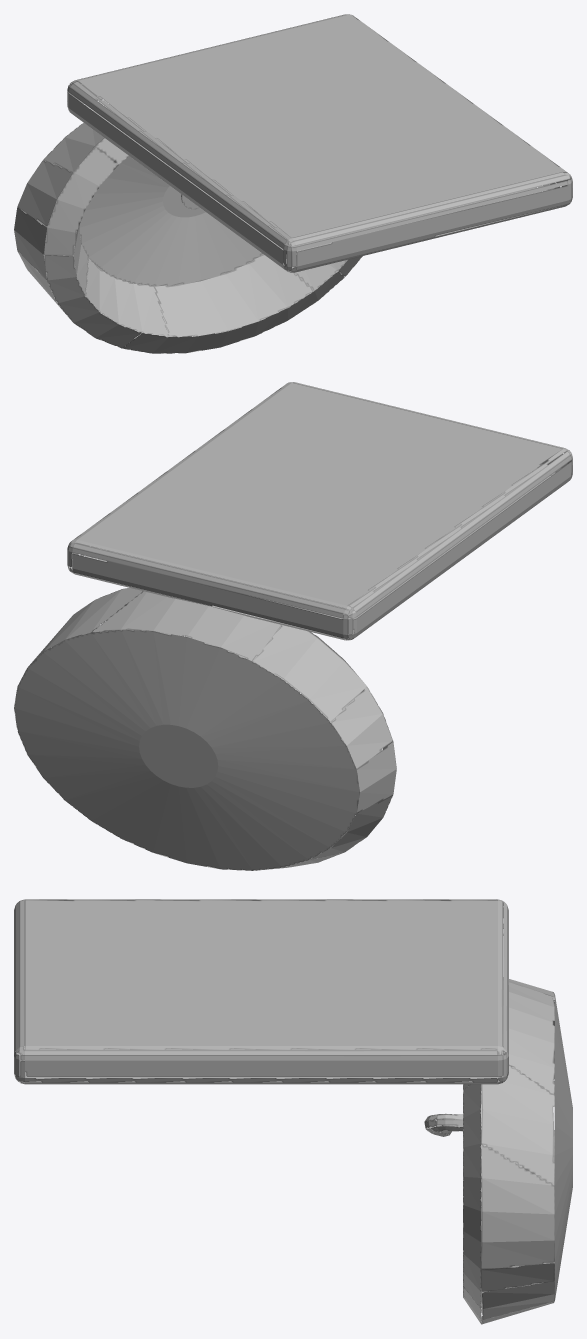
The model's file is pz_sink_fancy_hanging.obj.
3 views of the same model, one above another, from view 1: azimuth 30°, elevation 25°; view 2: azimuth 150°, elevation 25°; view 3: azimuth 270°, elevation 25° (orthographic). The views are drawn at different scales.
Parts seen in each view (by area): view 1: pz_sink_fancy_hanging_|_wall_backplate, pz_sink_fancy_hanging_|_rounded_open_drinking_fountain_bowl; view 2: pz_sink_fancy_hanging_|_rounded_open_drinking_fountain_bowl, pz_sink_fancy_hanging_|_wall_backplate; view 3: pz_sink_fancy_hanging_|_wall_backplate, pz_sink_fancy_hanging_|_rounded_open_drinking_fountain_bowl, pz_sink_fancy_hanging_|_curved_bubbler.
Part boxes in pixels (box(x1,y1,x2,y2)): pz_sink_fancy_hanging_|_wall_backplate: box(67, 14, 572, 272); pz_sink_fancy_hanging_|_rounded_open_drinking_fountain_bowl: box(14, 123, 362, 353); pz_sink_fancy_hanging_|_rounded_open_drinking_fountain_bowl: box(14, 588, 396, 870); pz_sink_fancy_hanging_|_wall_backplate: box(67, 382, 572, 640); pz_sink_fancy_hanging_|_wall_backplate: box(14, 899, 508, 1084); pz_sink_fancy_hanging_|_rounded_open_drinking_fountain_bowl: box(463, 977, 572, 1324); pz_sink_fancy_hanging_|_curved_bubbler: box(424, 1113, 463, 1136).
Size of the model in its own units: 0.49 by 0.39 by 0.61.
Materials: 1 (1 with a texture image).
